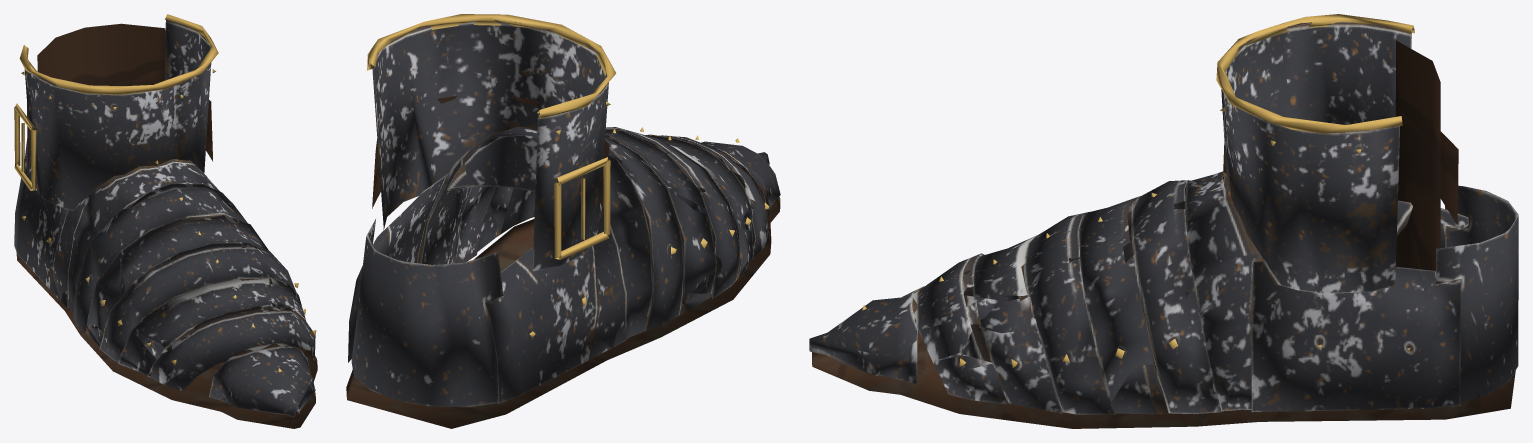
The model's file is SM_EagleSabatons_R_LOD3.fbx.
3 views of the same model, side by side, from view 1: azimuth 30°, elevation 25°; view 2: azimuth 150°, elevation 25°; view 3: azimuth 270°, elevation 25° (orthographic). The views are drawn at different scales.
Parts seen in each view (by area): view 1: SM_EagleSabatons_R_LOD3; view 2: SM_EagleSabatons_R_LOD3; view 3: SM_EagleSabatons_R_LOD3.
Boxes of the visible parts, left/top/right/bottom form: SM_EagleSabatons_R_LOD3: left=14, top=14, right=317, bottom=428; SM_EagleSabatons_R_LOD3: left=346, top=14, right=780, bottom=428; SM_EagleSabatons_R_LOD3: left=809, top=14, right=1518, bottom=428.
Size of the model in its own units: 0.1188 by 0.1412 by 0.2949.
